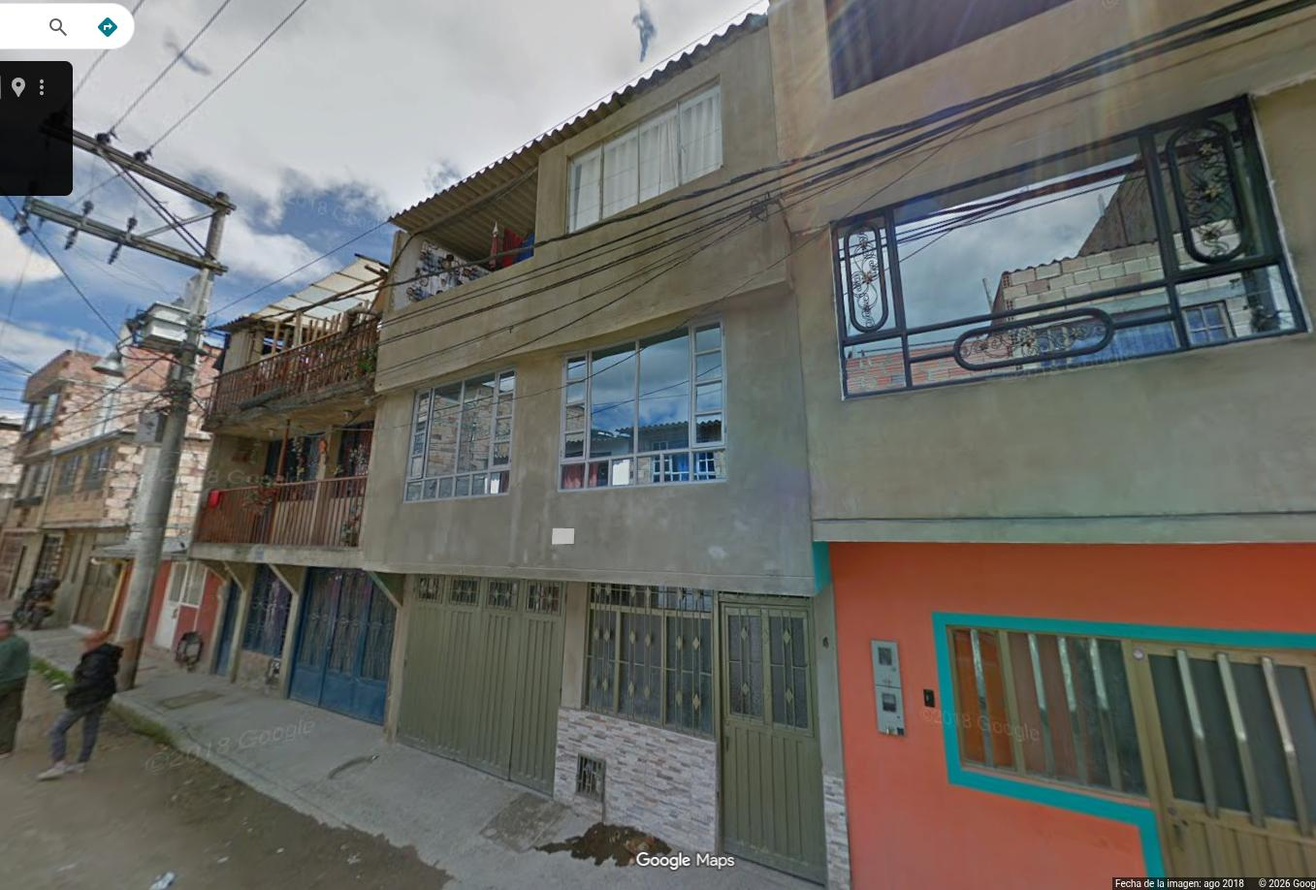casa: (770, 0, 1315, 889), (361, 16, 843, 882), (191, 257, 400, 723), (40, 430, 158, 623), (170, 432, 207, 535)
poste: (24, 128, 235, 690)
